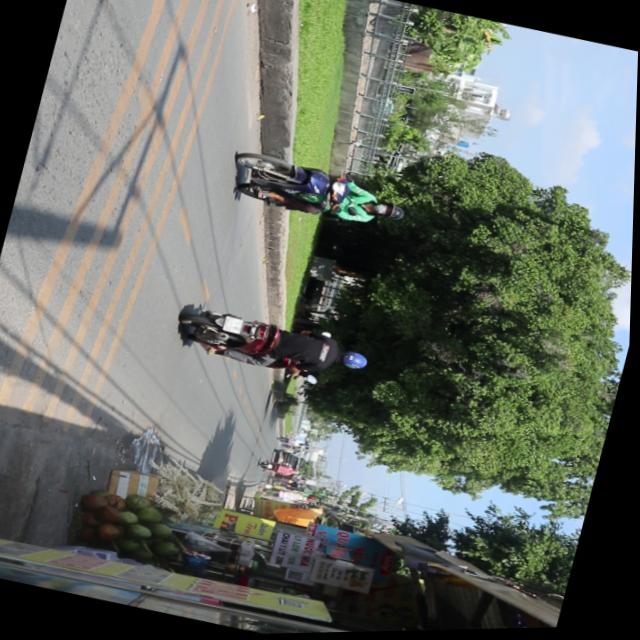helmet: (338, 349, 372, 374), (373, 200, 409, 223)
licenseplate: (173, 295, 378, 394), (225, 146, 414, 240)
nohelmet: (224, 317, 246, 335)
